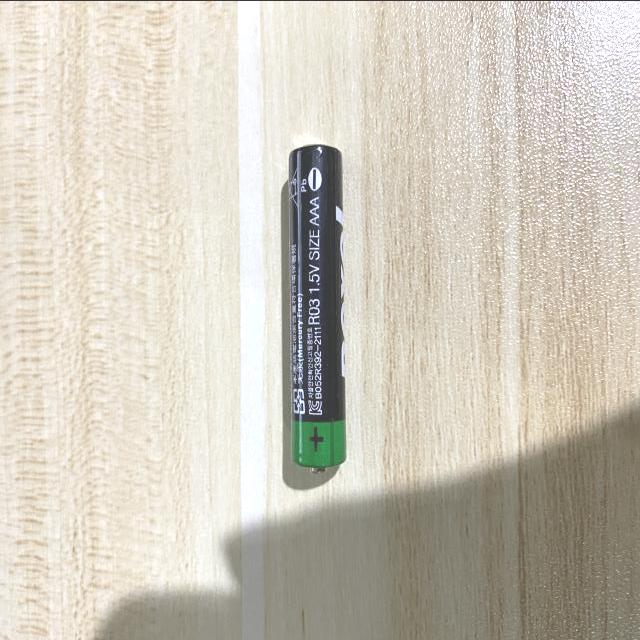AAA: (296, 143, 342, 472)
